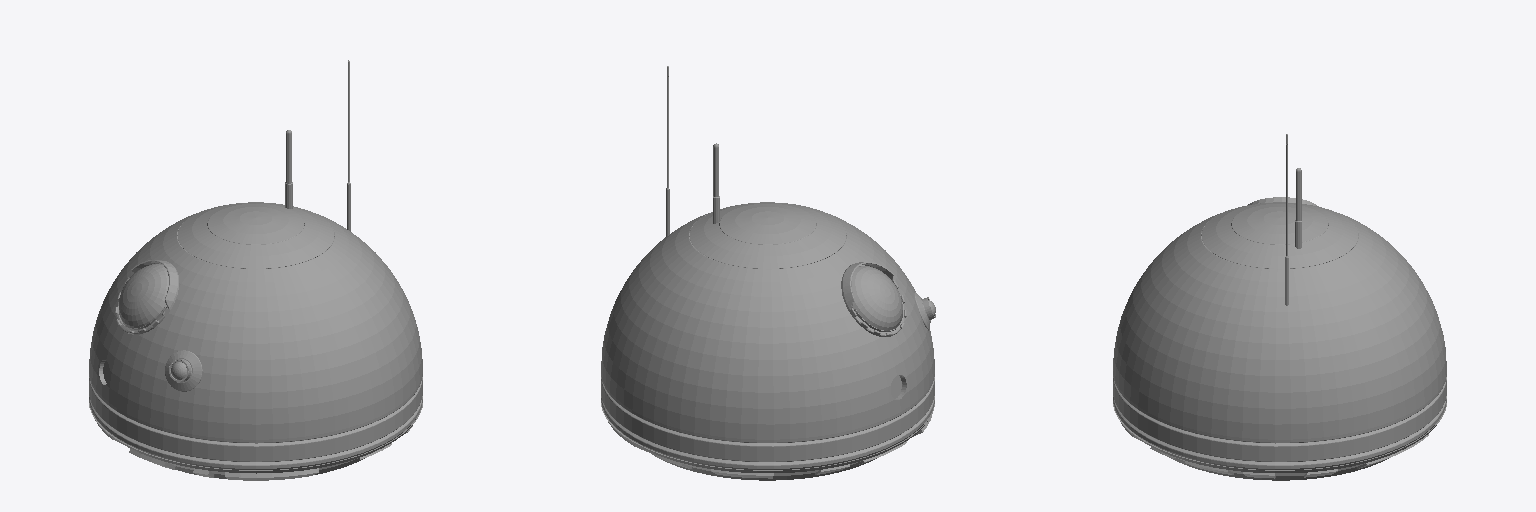
File: BB8Head.obj
3 renders of one model, left to right at view 1: azimuth 30°, elevation 25°; view 2: azimuth 150°, elevation 25°; view 3: azimuth 270°, elevation 25°, orthographic.
Parts seen in each view (by area): view 1: Object004; view 2: Object004; view 3: Object004.
Boxes of the visible parts, x1=… form: Object004: x1=89, y1=60, x2=422, y2=480; Object004: x1=601, y1=66, x2=935, y2=480; Object004: x1=1113, y1=134, x2=1446, y2=480.
Bounding box in the file's own units: 2.16 × 2.41 × 2.16.